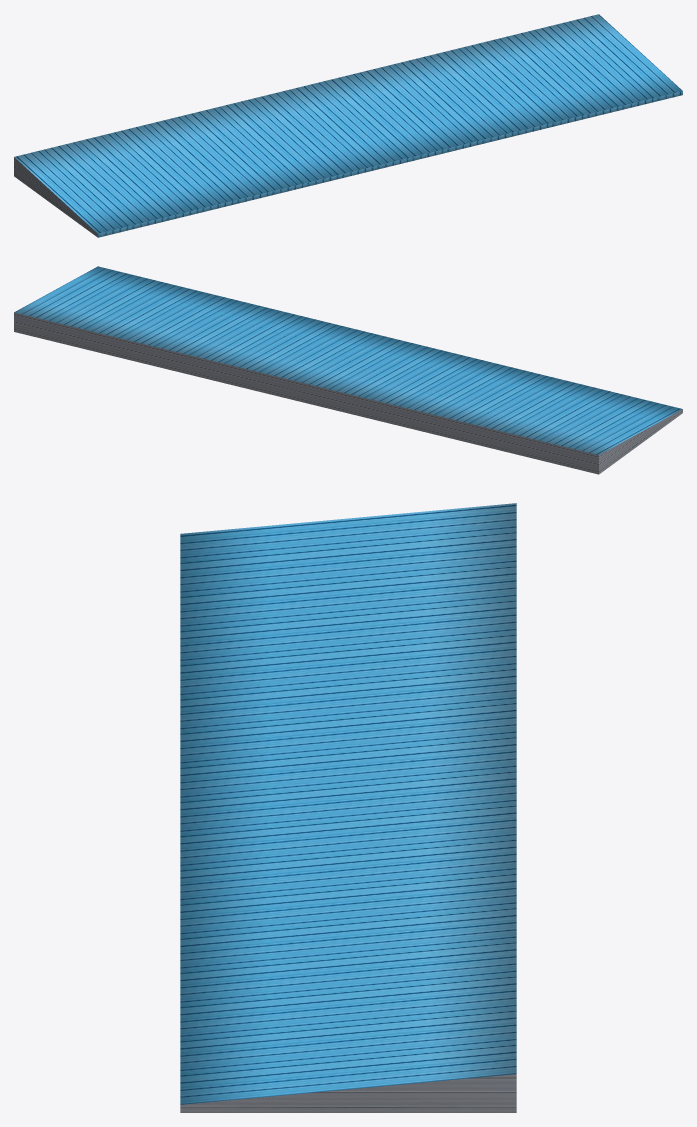
The model's file is NST_ROOF.glb.
The picture shows the model from 3 angles, top to bottom: view 1: azimuth 30°, elevation 25°; view 2: azimuth 150°, elevation 25°; view 3: azimuth 270°, elevation 25°; orthographic projection. The views are drawn at different scales.
Visible parts, largest first — view 1: N-roof; view 2: N-roof; view 3: N-roof.
Boxes of the visible parts, x1=… form: N-roof: x1=14, y1=14, x2=682, y2=237; N-roof: x1=14, y1=266, x2=682, y2=474; N-roof: x1=180, y1=503, x2=516, y2=1112.
Bounding box in the file's own units: 42.6 × 1.35 × 10.6.
2 materials, 2 textured.
